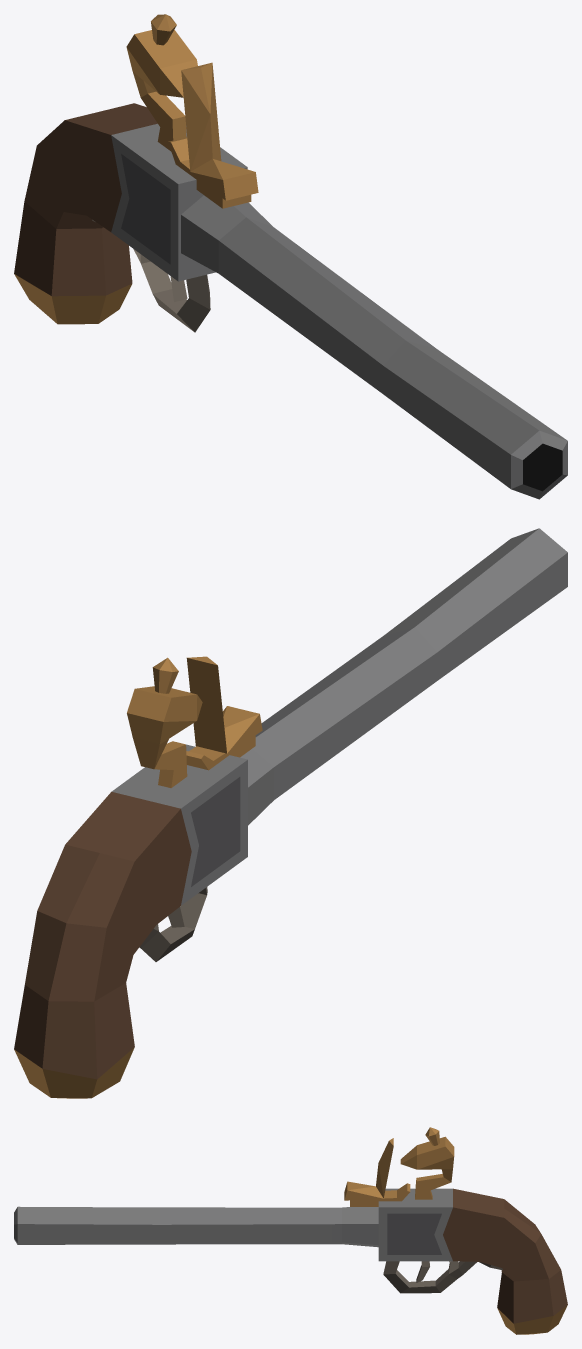
The model's file is SM_Wep_Pistol_01.glb.
The picture shows the model from 3 angles, top to bottom: view 1: azimuth 30°, elevation 25°; view 2: azimuth 150°, elevation 25°; view 3: azimuth 270°, elevation 25°; orthographic projection. The views are drawn at different scales.
Visible parts, largest first — view 1: SM_Wep_Pistol_01; view 2: SM_Wep_Pistol_01; view 3: SM_Wep_Pistol_01.
Part boxes in pixels (x1,y1,x2,y2): SM_Wep_Pistol_01: [14, 14, 567, 499]; SM_Wep_Pistol_01: [14, 528, 567, 1098]; SM_Wep_Pistol_01: [14, 1127, 567, 1334].
Bounding box in the file's own units: 0.000499 × 0.00215 × 0.00521.
